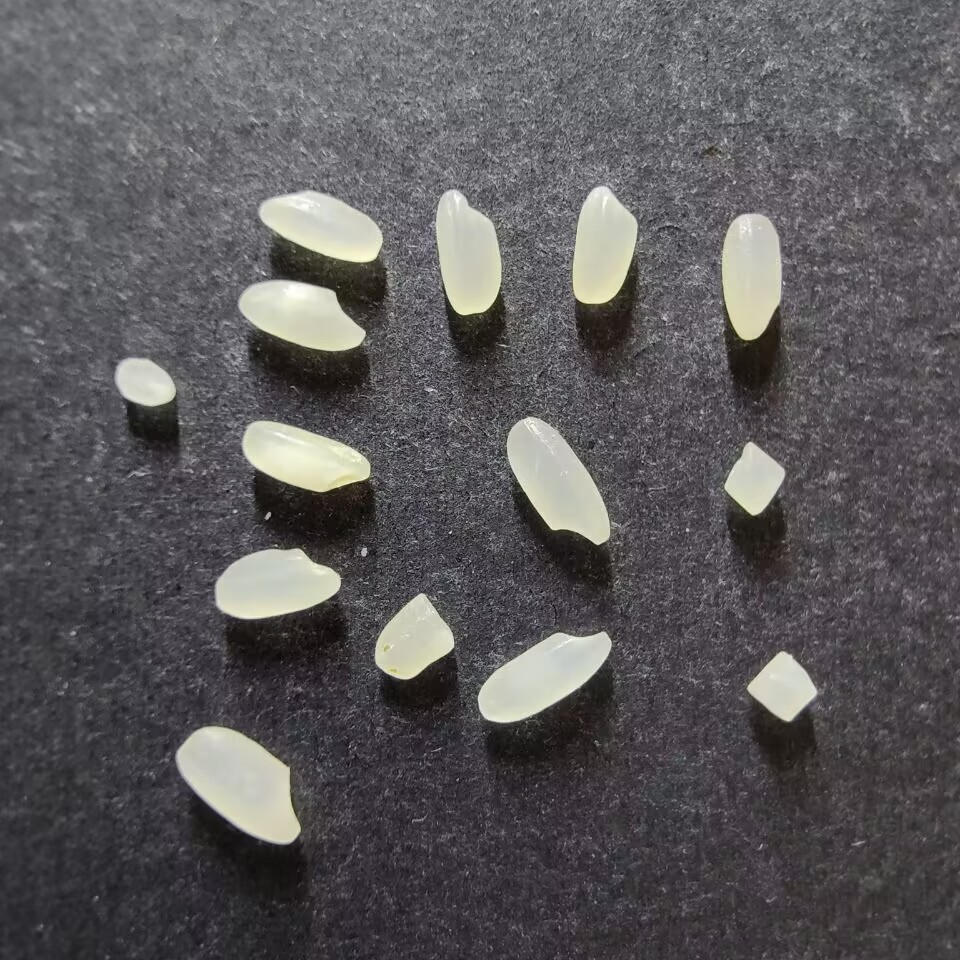broken: (373, 593, 454, 680), (746, 650, 817, 723), (723, 441, 786, 515), (114, 356, 177, 406)
rice: (175, 725, 302, 844), (505, 417, 611, 545), (477, 629, 611, 723), (241, 420, 370, 493), (238, 279, 366, 351), (258, 190, 383, 262), (214, 548, 340, 619), (435, 189, 501, 315), (720, 213, 782, 340), (571, 186, 637, 304)
